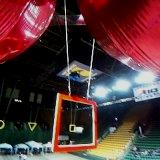Orange_Square_GShape: (51, 94, 98, 154)
Yellow_Circle_GShape: (0, 121, 6, 130)
Yellow_Square_GShape: (69, 124, 76, 132)
Yellow_Triangle_Gshape: (28, 122, 38, 131)
